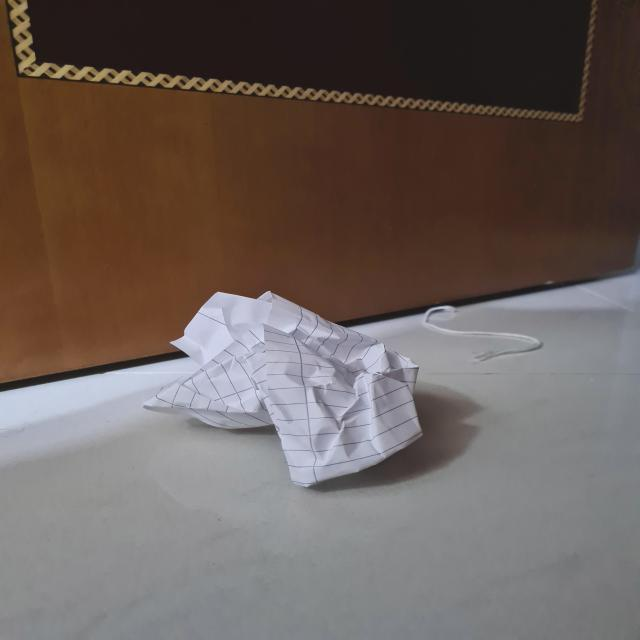Paper: (156, 264, 432, 497)
